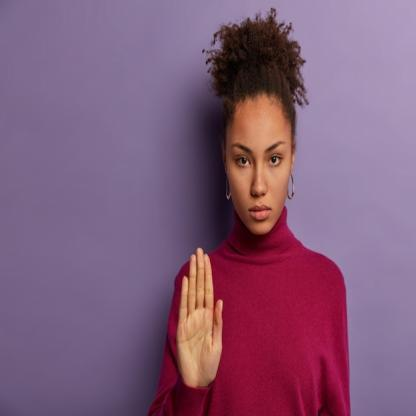stop: (176, 246, 226, 390)
